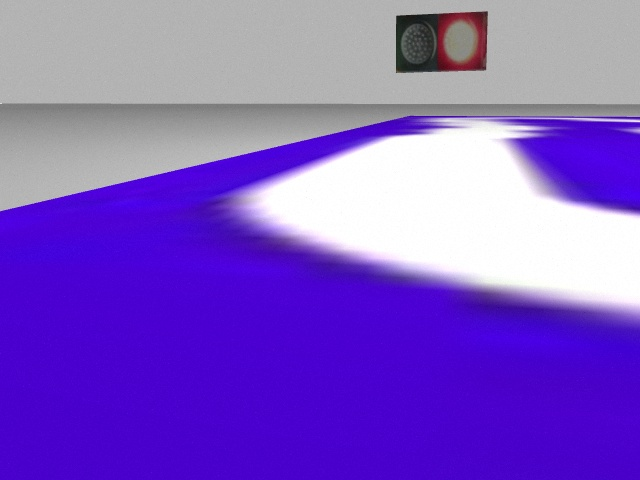red: (439, 14, 487, 69)
